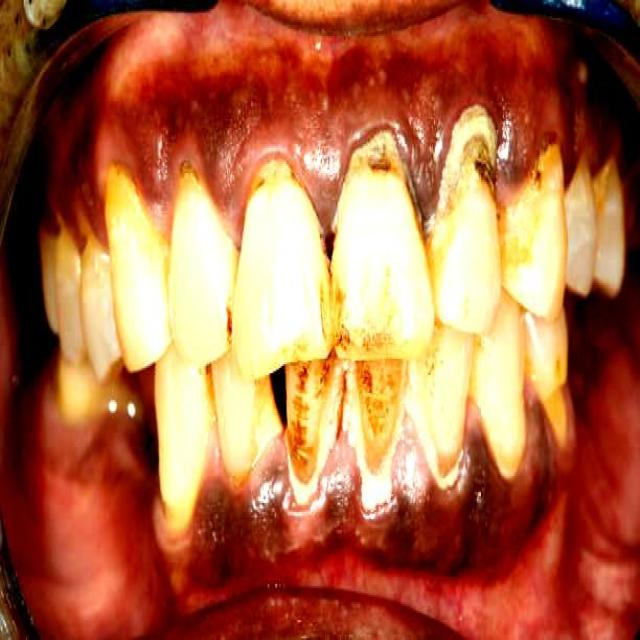caries: (536, 366, 584, 449)
